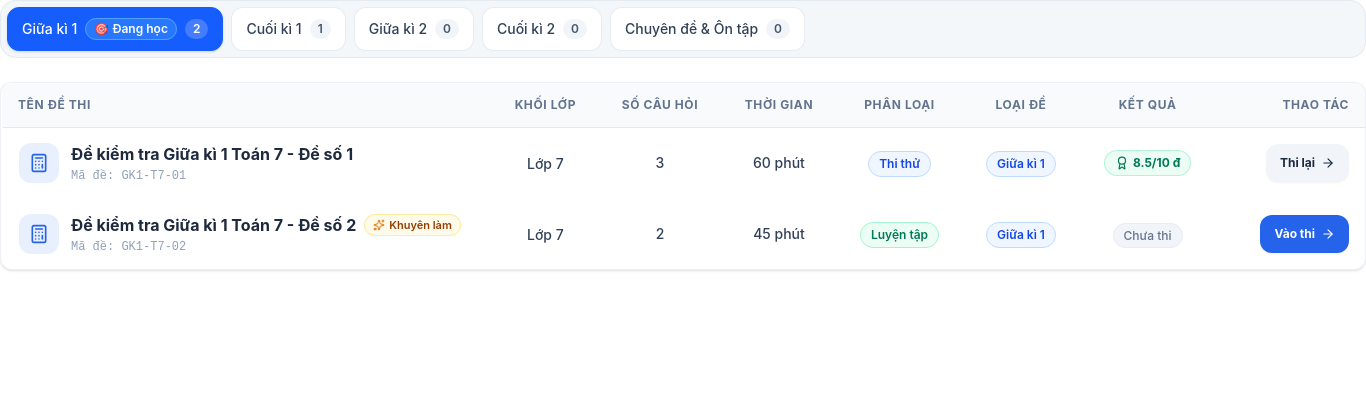
Test: StudentExamListClient Component › displays empty state when selected milestone has no exams
The image size is (1366, 403).
Click the tab "Giữa kì 2 0" at (414, 29), box [354,7,474,51]
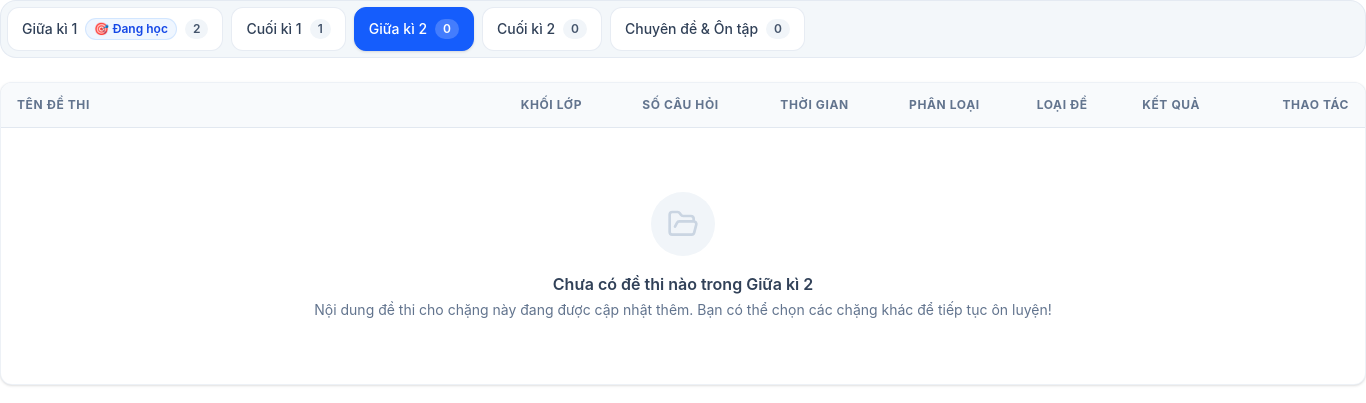
Result: the text "Chưa có đề thi nào trong Giữa kì 2" is shown at [553,272,813,296]
Result: the text "Nội dung đề thi cho chặng này đang được cập nhật" is shown at [314,301,1052,318]
